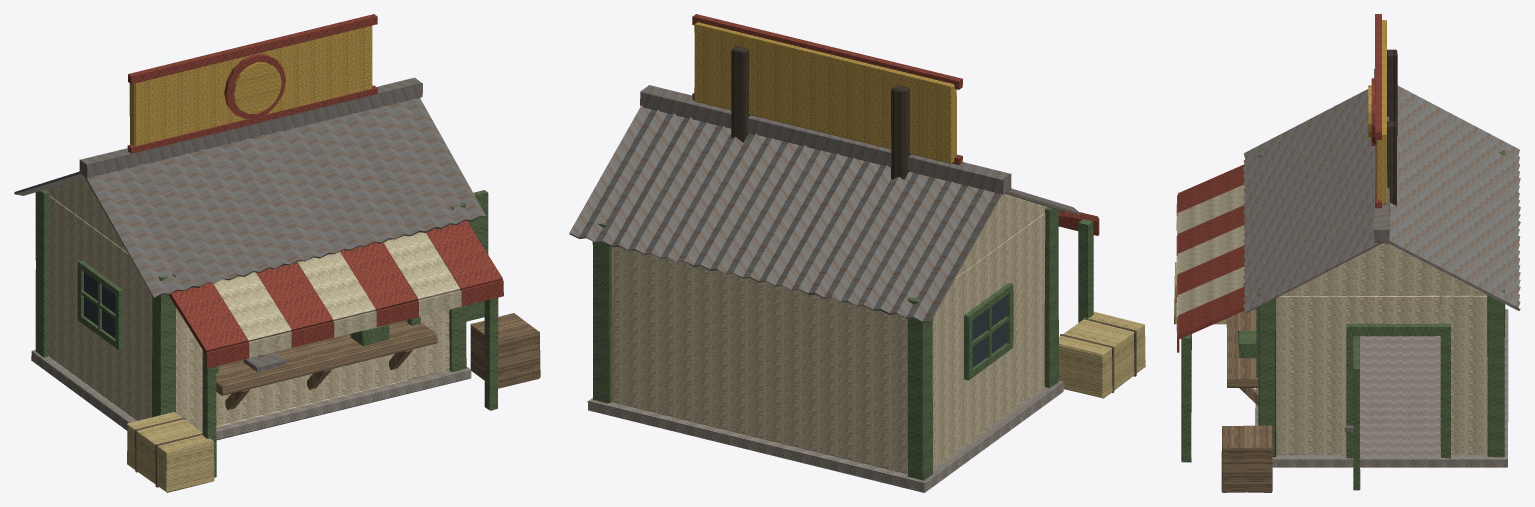
File: sell_depot.glb
The picture shows the model from 3 angles, left to right: view 1: azimuth 30°, elevation 25°; view 2: azimuth 150°, elevation 25°; view 3: azimuth 270°, elevation 25°; orthographic projection. The views are drawn at different scales.
Visible parts, largest first — view 1: SellDepot; view 2: SellDepot; view 3: SellDepot.
Part boxes in pixels (box(x1,y1,x2,y2)): SellDepot: box(14, 14, 540, 492); SellDepot: box(569, 14, 1145, 492); SellDepot: box(1174, 14, 1520, 492).
Bounding box in the file's own units: 7.8 × 5.88 × 5.77.
Materials: 12 (10 with a texture image).
